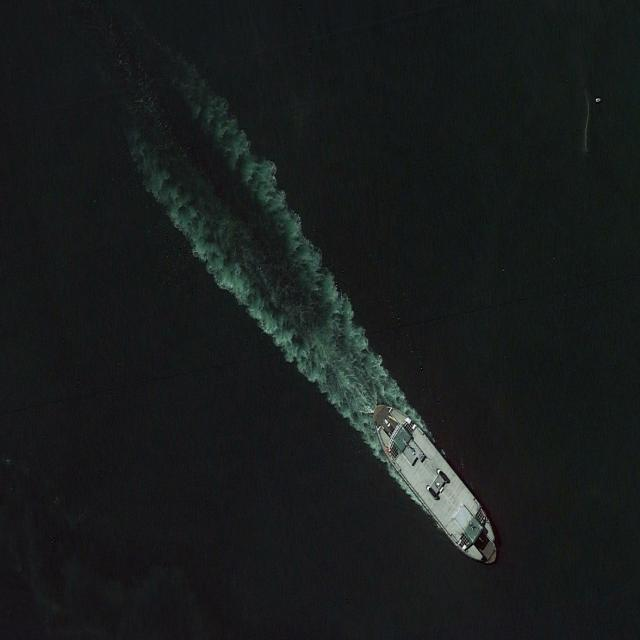RoRo: (361, 387, 508, 580)
